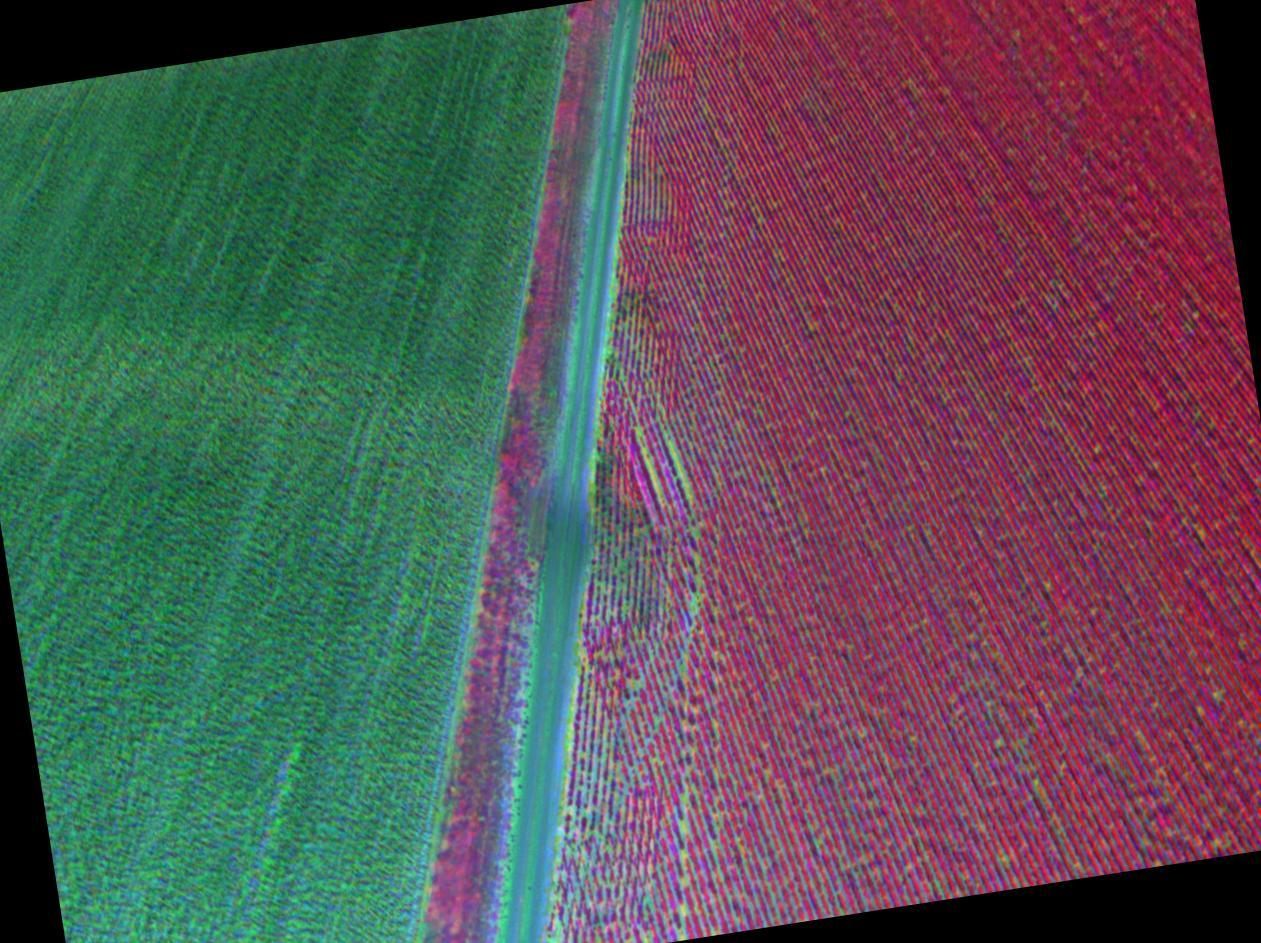dc: (683, 795, 689, 801), (689, 605, 696, 610), (679, 825, 685, 830), (683, 477, 687, 483), (675, 457, 680, 461), (681, 880, 685, 885), (680, 909, 684, 913), (678, 936, 682, 940), (637, 429, 641, 432), (1194, 314, 1197, 316)
